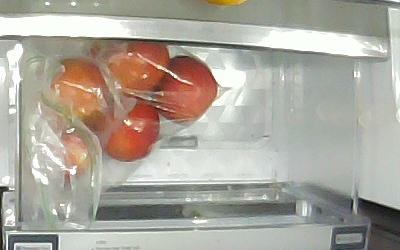apple_vinyl: (48, 58, 111, 131), (91, 38, 170, 96), (158, 54, 219, 124), (99, 97, 159, 162), (58, 129, 92, 182)
